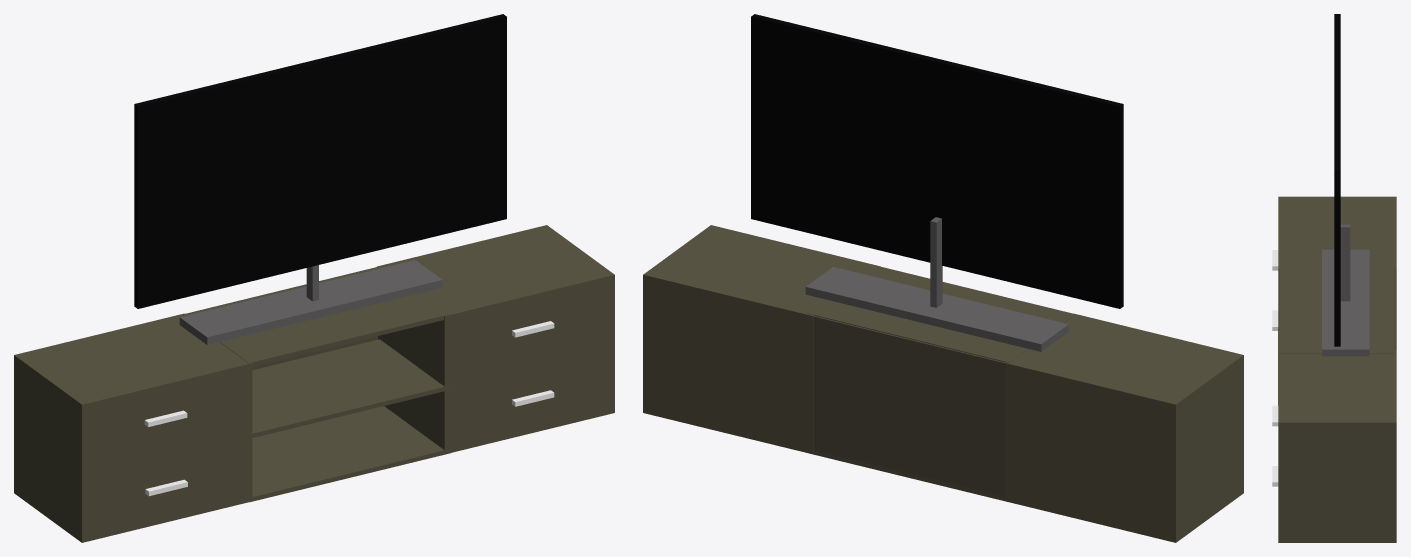
The model's file is Tv and Desk.fbx.
The picture shows the model from 3 angles, left to right: view 1: azimuth 30°, elevation 25°; view 2: azimuth 150°, elevation 25°; view 3: azimuth 270°, elevation 25°; orthographic projection. The views are drawn at different scales.
Parts seen in each view (by area): view 1: pCube12, pCube1, pCube2, pCube4, pCube5, pCube14, pCube6, pCube3; view 2: pCube12, pCube1, pCube2, pCube3, pCube14, pCube6, pCube13, pCube5; view 3: pCube2, pCube1, pCube6, pCube14, pCube12, pCube13, pCube3.
Boxes of the visible parts, bbox=[...] form: pCube12: bbox=[134, 14, 506, 308]; pCube1: bbox=[14, 313, 252, 542]; pCube2: bbox=[377, 225, 614, 452]; pCube4: bbox=[249, 339, 451, 438]; pCube5: bbox=[249, 406, 451, 502]; pCube14: bbox=[179, 260, 442, 344]; pCube6: bbox=[183, 265, 450, 366]; pCube3: bbox=[185, 267, 377, 370]; pCube12: bbox=[751, 14, 1123, 308]; pCube1: bbox=[1005, 313, 1243, 542]; pCube2: bbox=[643, 225, 880, 454]; pCube3: bbox=[813, 316, 1005, 496]; pCube14: bbox=[805, 267, 1068, 351]; pCube6: bbox=[807, 265, 1075, 362]; pCube13: bbox=[930, 217, 942, 307]; pCube5: bbox=[813, 450, 1005, 501]; pCube2: bbox=[1278, 350, 1396, 542]; pCube1: bbox=[1278, 196, 1396, 349]; pCube6: bbox=[1279, 267, 1394, 353]; pCube14: bbox=[1322, 249, 1369, 356]; pCube12: bbox=[1334, 14, 1340, 346]; pCube13: bbox=[1340, 224, 1350, 301]; pCube3: bbox=[1394, 269, 1396, 350].
Bounding box in the file's own units: 19007 × 13342 × 4408.
